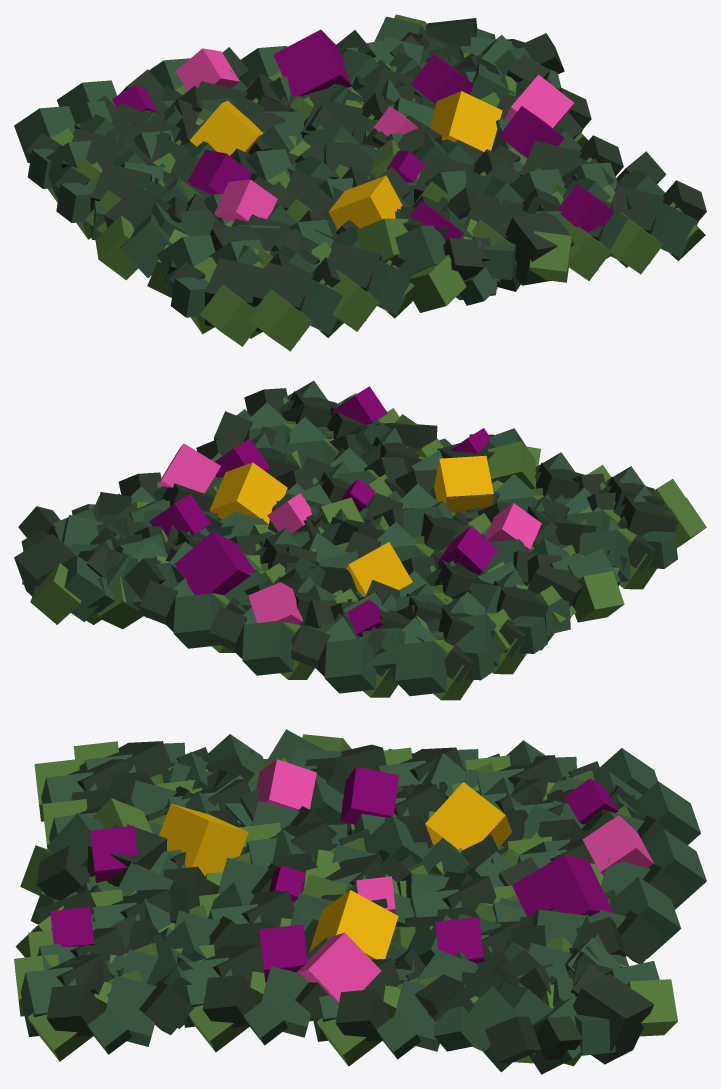
File: shrubs.fbx
The picture shows the model from 3 angles, top to bottom: view 1: azimuth 30°, elevation 25°; view 2: azimuth 150°, elevation 25°; view 3: azimuth 270°, elevation 25°; orthographic projection. The views are drawn at different scales.
Visible parts, largest first — view 1: medium_green_shrub, dark_green_shrub, light_green_shrub, purple_flower, yellow_flower, pink_flower; view 2: medium_green_shrub, dark_green_shrub, light_green_shrub, purple_flower, yellow_flower, pink_flower; view 3: medium_green_shrub, dark_green_shrub, light_green_shrub, purple_flower, yellow_flower, pink_flower.
Part boxes in pixels (x1,y1,x2,y2): medium_green_shrub: (14,16,698,334); dark_green_shrub: (26,18,706,340); light_green_shrub: (48,14,705,351); purple_flower: (112,29,613,241); yellow_flower: (190,91,502,229); pink_flower: (175,48,574,221); medium_green_shrub: (22,380,677,696); dark_green_shrub: (14,388,678,682); light_green_shrub: (30,393,706,700); purple_flower: (149,386,497,636); yellow_flower: (209,455,493,596); pink_flower: (158,443,541,624); medium_green_shrub: (20,729,706,1074); dark_green_shrub: (36,741,687,1064); light_green_shrub: (14,734,677,1066); purple_flower: (50,767,618,982); yellow_flower: (159,782,511,959); pink_flower: (256,759,653,1002).
Bounding box in the file's own units: 3.67 × 0.7521 × 3.45.
